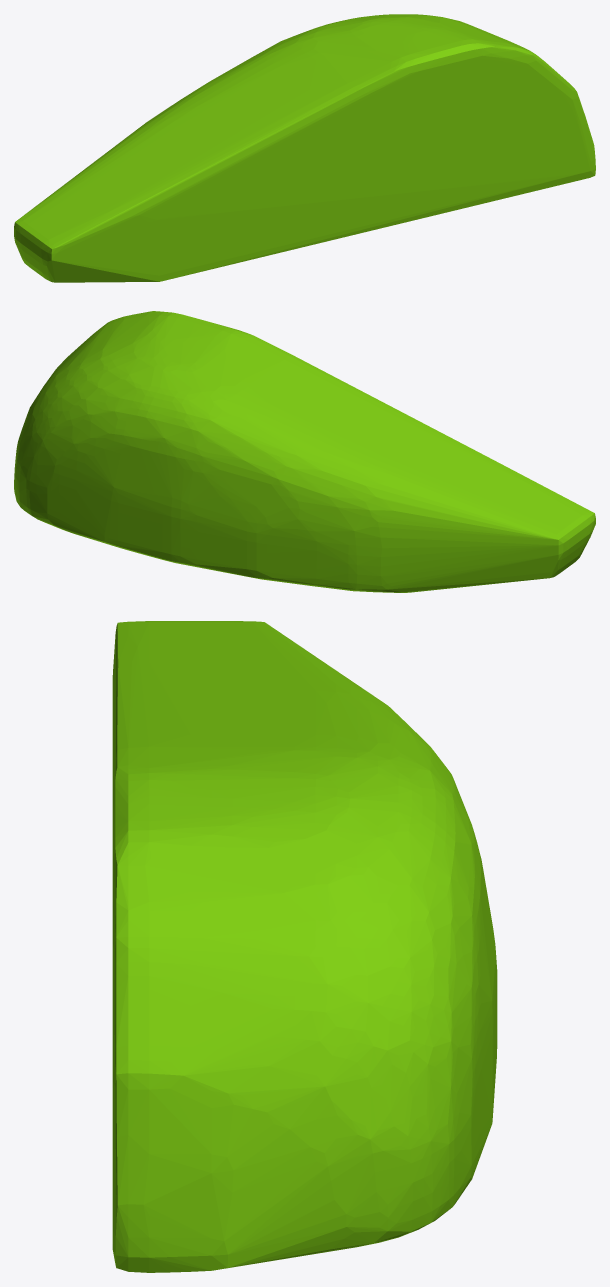
3 views of the same model, one above another, from view 1: azimuth 30°, elevation 25°; view 2: azimuth 150°, elevation 25°; view 3: azimuth 270°, elevation 25° (orthographic). The views are drawn at different scales.
Size of the model in its own units: 0.1546 by 0.0445 by 0.0471.
